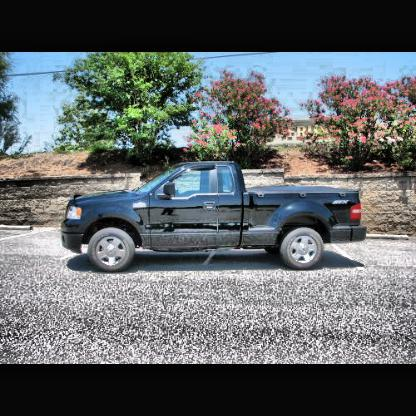Ford F-150 Regular Cab 2007: (58, 159, 370, 275)
